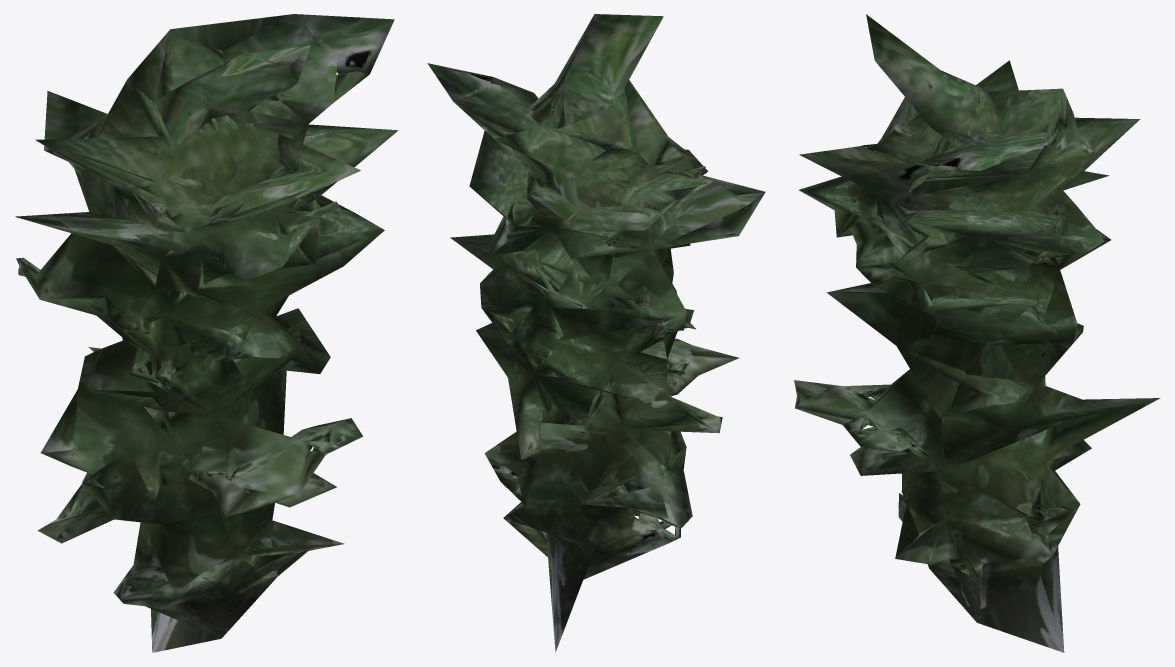
Rendered from floorplant.fbx.
3 views of the same model, side by side, from view 1: azimuth 30°, elevation 25°; view 2: azimuth 150°, elevation 25°; view 3: azimuth 270°, elevation 25° (orthographic). The views are drawn at different scales.
Parts seen in each view (by area): view 1: mesh; view 2: mesh; view 3: mesh.
Part boxes in pixels (x1,y1,x2,y2): mesh: (15,14,398,652); mesh: (427,14,765,652); mesh: (794,14,1160,652).
Bounding box in the file's own units: 53.09 × 92.21 × 48.71.
